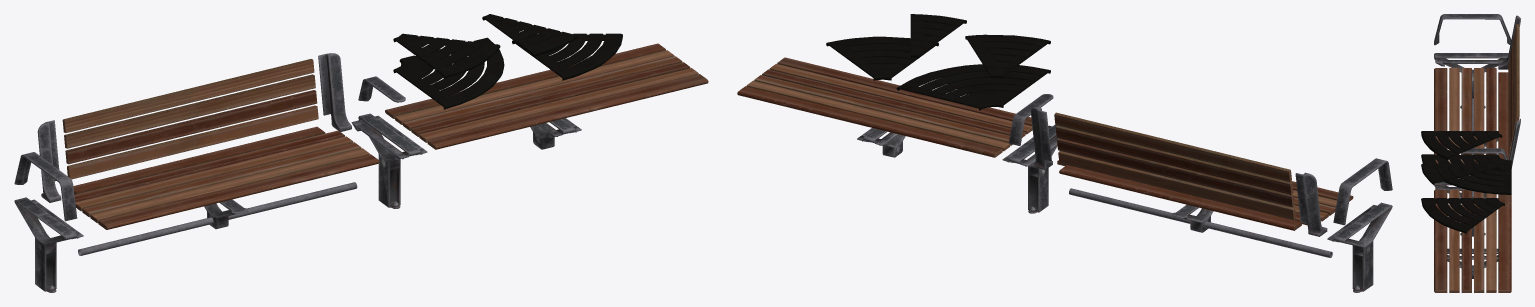
File: modular_street_seating.glb
The picture shows the model from 3 angles, left to right: view 1: azimuth 30°, elevation 25°; view 2: azimuth 150°, elevation 25°; view 3: azimuth 270°, elevation 25°; orthographic projection. The views are drawn at different scales.
Parts seen in each view (by area): view 1: seat, seat_back, connector_60, legs_double, crossbar; view 2: seat, seat_back, connector_60, crossbar, legs_double; view 3: seat, connector_60, legs_double, crossbar, seat_back.
Part boxes in pixels (x1,y1,x2,y2): seat: (73,43,708,229); seat_back: (62,59,318,179); connector_60: (393,14,622,109); legs_double: (14,113,581,292); crossbar: (14,53,405,255); seat: (737,57,1353,230); seat_back: (1054,112,1295,220); connector_60: (826,14,1050,110); crossbar: (1009,94,1392,257); legs_double: (857,125,1392,292); seat: (1434,68,1511,292); connector_60: (1421,131,1511,233); legs_double: (1434,53,1508,278); crossbar: (1434,14,1520,196); seat_back: (1508,24,1519,157).
Size of the model in its own units: 4.34 by 0.9498 by 0.7704.
4 materials, 4 textured.
